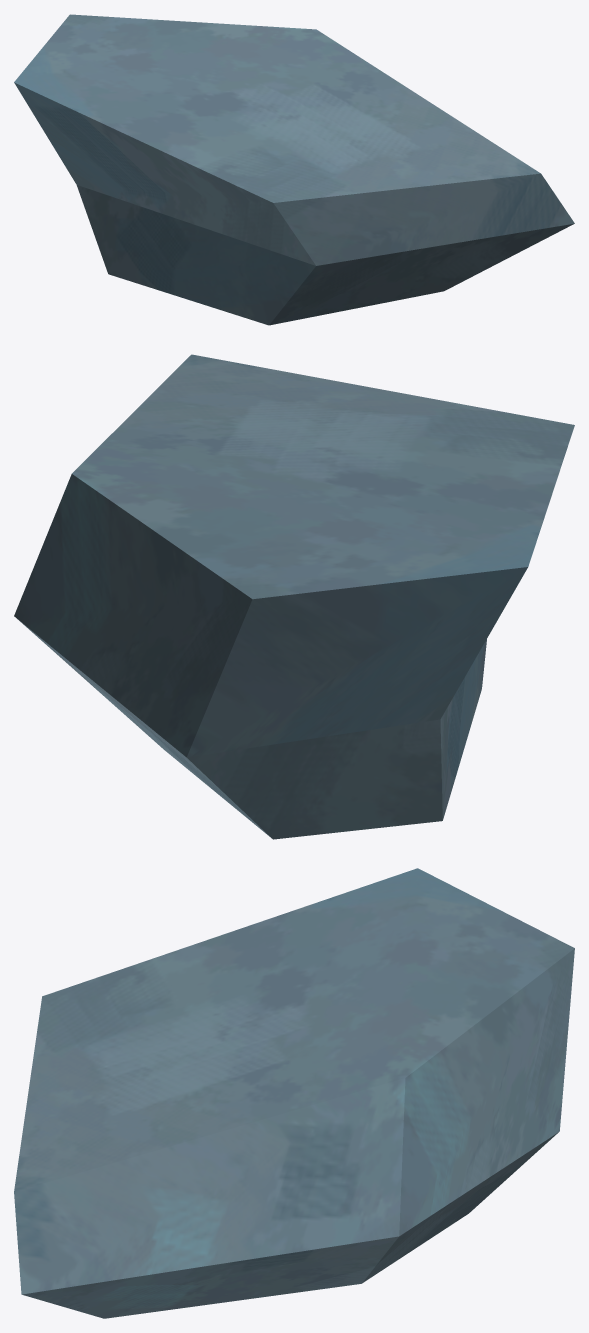
Rendered from stone6.fbx.
The picture shows the model from 3 angles, top to bottom: view 1: azimuth 30°, elevation 25°; view 2: azimuth 150°, elevation 25°; view 3: azimuth 270°, elevation 25°; orthographic projection. The views are drawn at different scales.
Parts seen in each view (by area): view 1: stone6; view 2: stone6; view 3: stone6.
Boxes of the visible parts, box(x1,y1,x2,y2) form: stone6: box(14, 14, 574, 325); stone6: box(14, 354, 574, 839); stone6: box(14, 868, 574, 1318).
Bounding box in the file's own units: 236 × 108 × 216.
